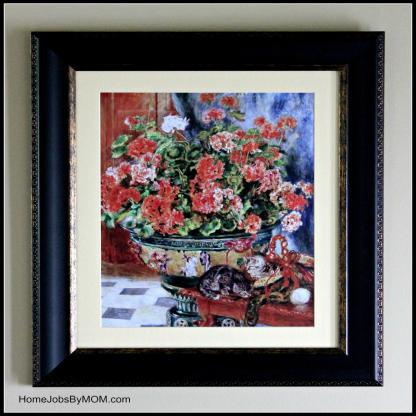picture frame: (38, 38, 360, 371)
